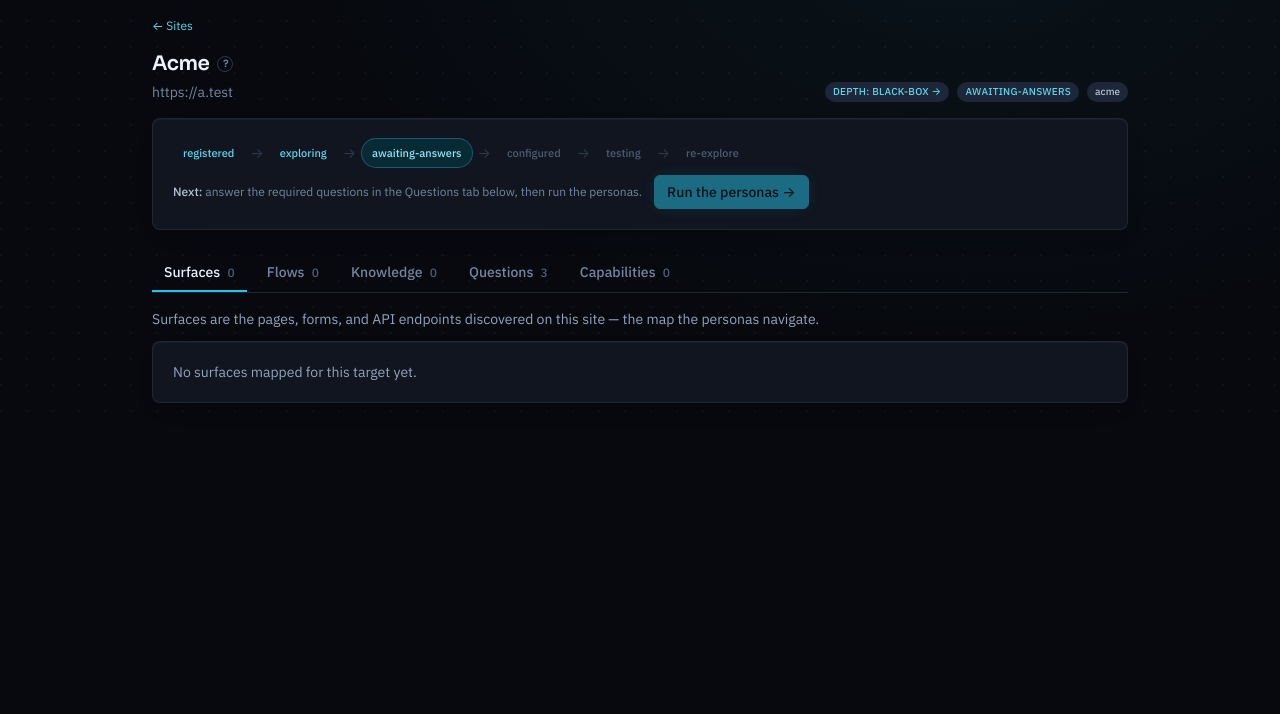
Test: <SiteTarget> capabilities › surfaces the explorer's proposed caps in a "Suggested" section, not the ladder
What coordinates should you click on to do the following:
click the button "Capabilities 0"
I would click on:
 (625, 273)
Its box is top-left (568, 254), bottom-right (682, 292).
(page scrolled)
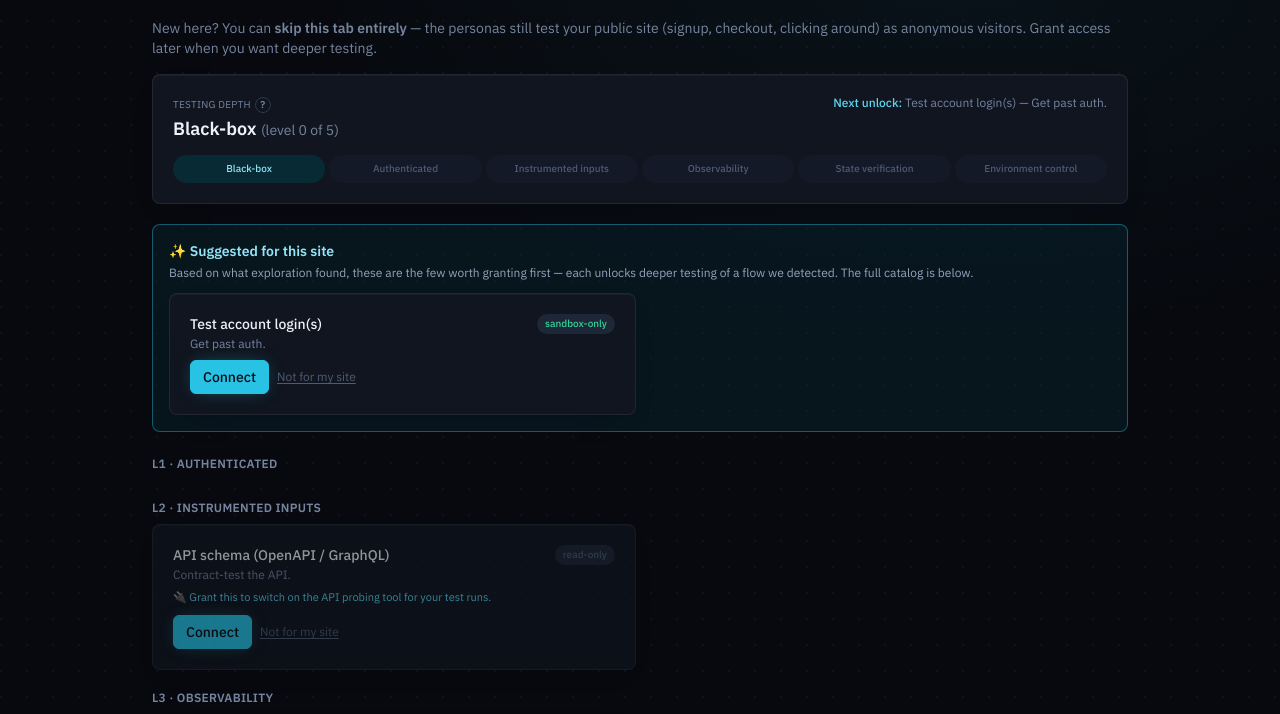
Check: the element with test id "suggested-caps" is shown, box top-left (152, 224), bottom-right (1128, 432)
Check: the element with test id "sugg-cap-test-account" is shown, box top-left (169, 293), bottom-right (636, 415)
